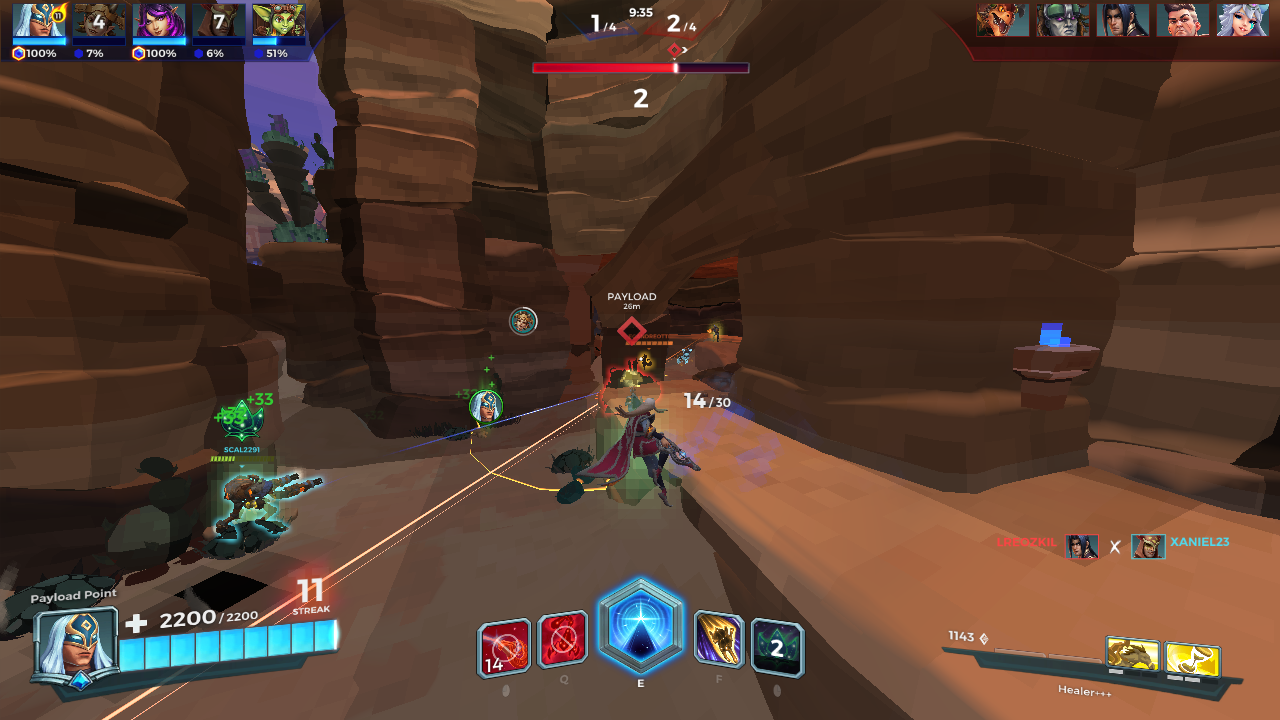model: (631, 346, 659, 377), (705, 322, 726, 348)
